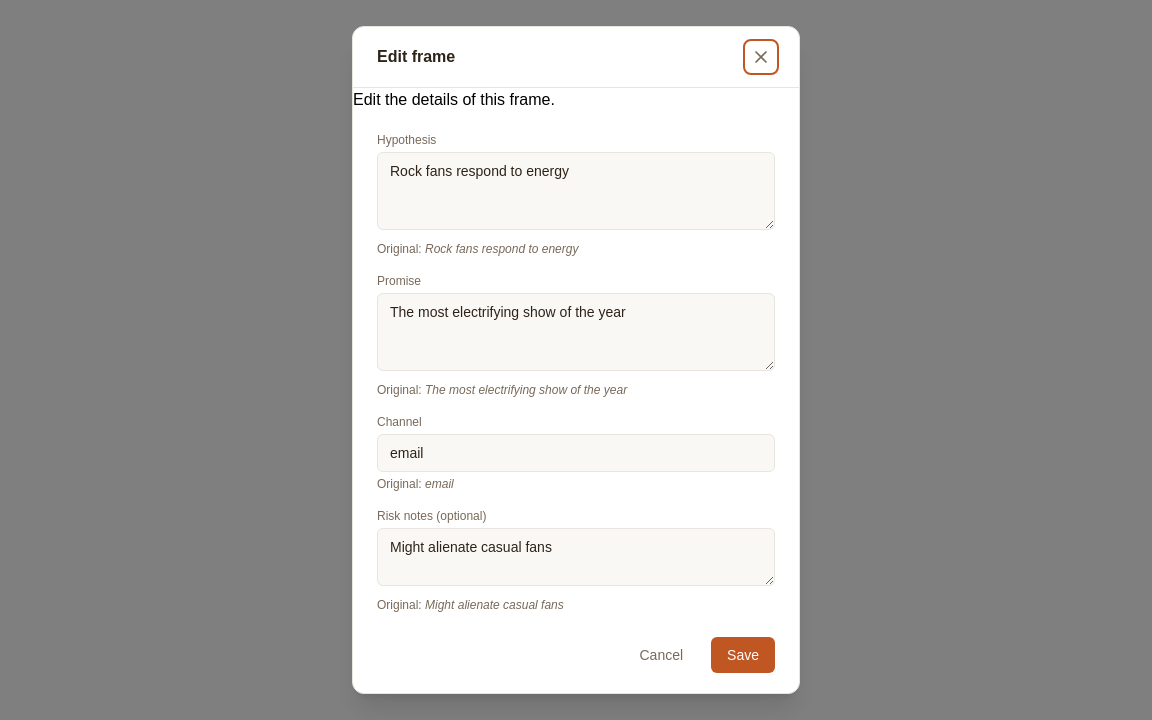
FrameEditModal › form validation › shows error when promise is empty on submit
Clear the text box labelled "Promise" at (576, 332), box [377,293,775,371]
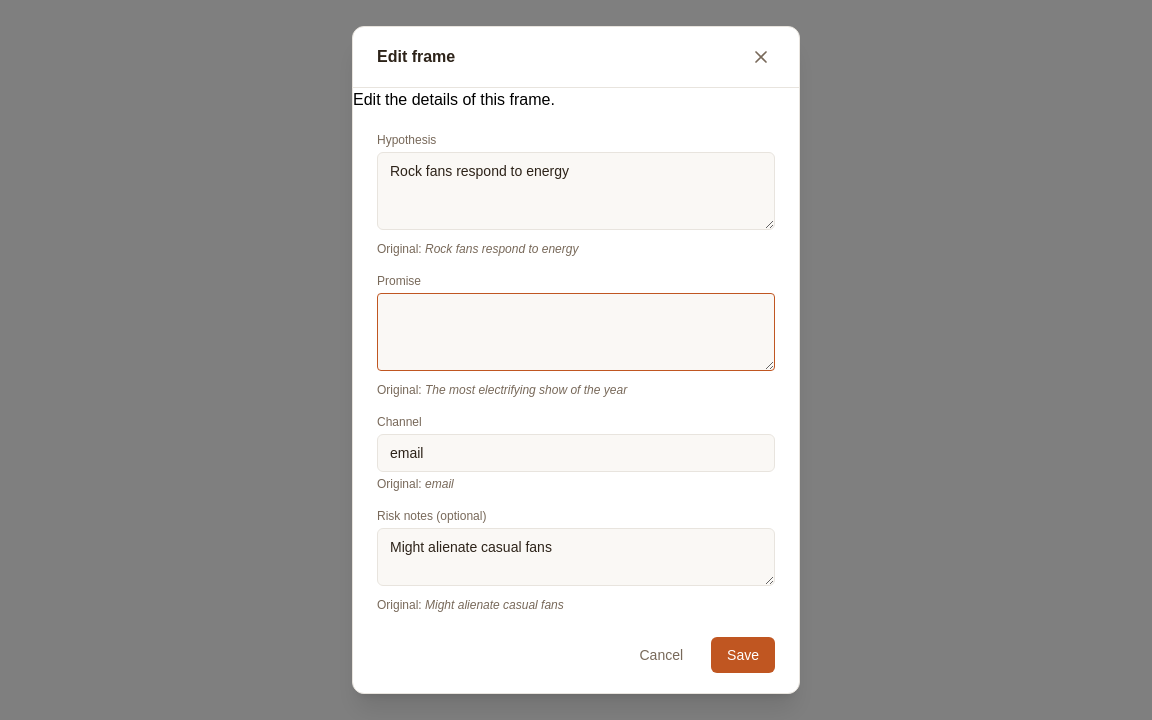
Click the button "Save".
click(743, 655)  # box [711,637,775,673]
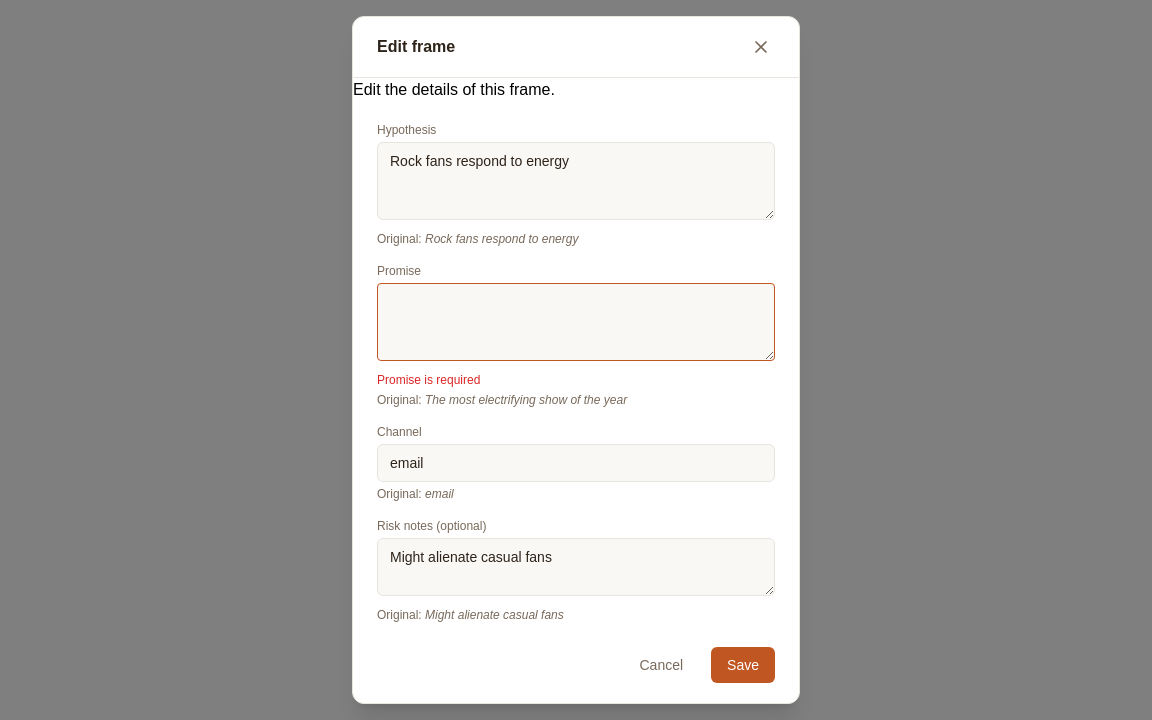
Expected: the message reads "Promise is required", [377,373,480,387]
